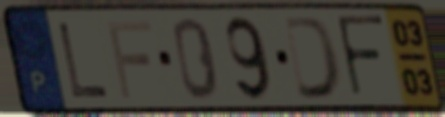0: (171, 14, 220, 103)
9: (223, 14, 275, 103)
D: (280, 14, 344, 102)
F: (333, 13, 388, 102), (104, 17, 155, 101)
L: (55, 19, 113, 100)
